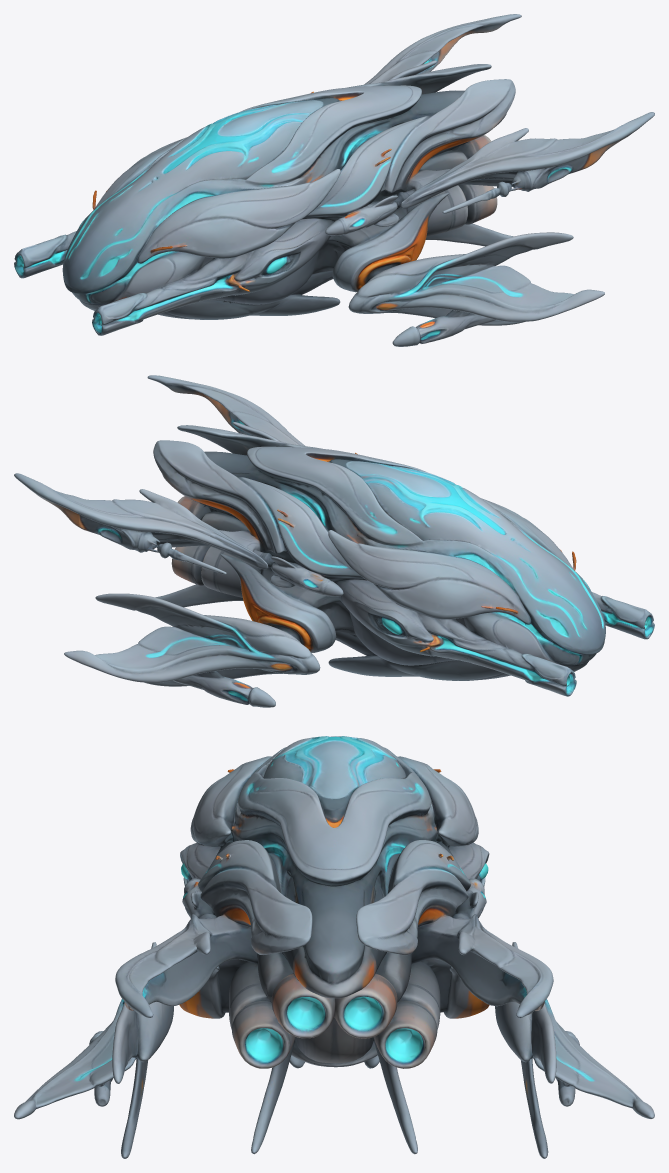
File: Alien fighterspaceship 3d model.glb
3 views of the same model, one above another, from view 1: azimuth 30°, elevation 25°; view 2: azimuth 150°, elevation 25°; view 3: azimuth 270°, elevation 25° (orthographic). The views are drawn at different scales.
Visible parts, largest first — view 1: tripo_node_d22641ea-8ad0-490e-99b4-f2f20dbca7c2; view 2: tripo_node_d22641ea-8ad0-490e-99b4-f2f20dbca7c2; view 3: tripo_node_d22641ea-8ad0-490e-99b4-f2f20dbca7c2.
Part boxes in pixels (bbox=[...]): tripo_node_d22641ea-8ad0-490e-99b4-f2f20dbca7c2: bbox=[14, 14, 654, 346]; tripo_node_d22641ea-8ad0-490e-99b4-f2f20dbca7c2: bbox=[14, 375, 654, 707]; tripo_node_d22641ea-8ad0-490e-99b4-f2f20dbca7c2: bbox=[14, 736, 654, 1158].
Size of the model in its own units: 1 by 0.3582 by 0.7567.
Materials: 1 (1 with a texture image).
